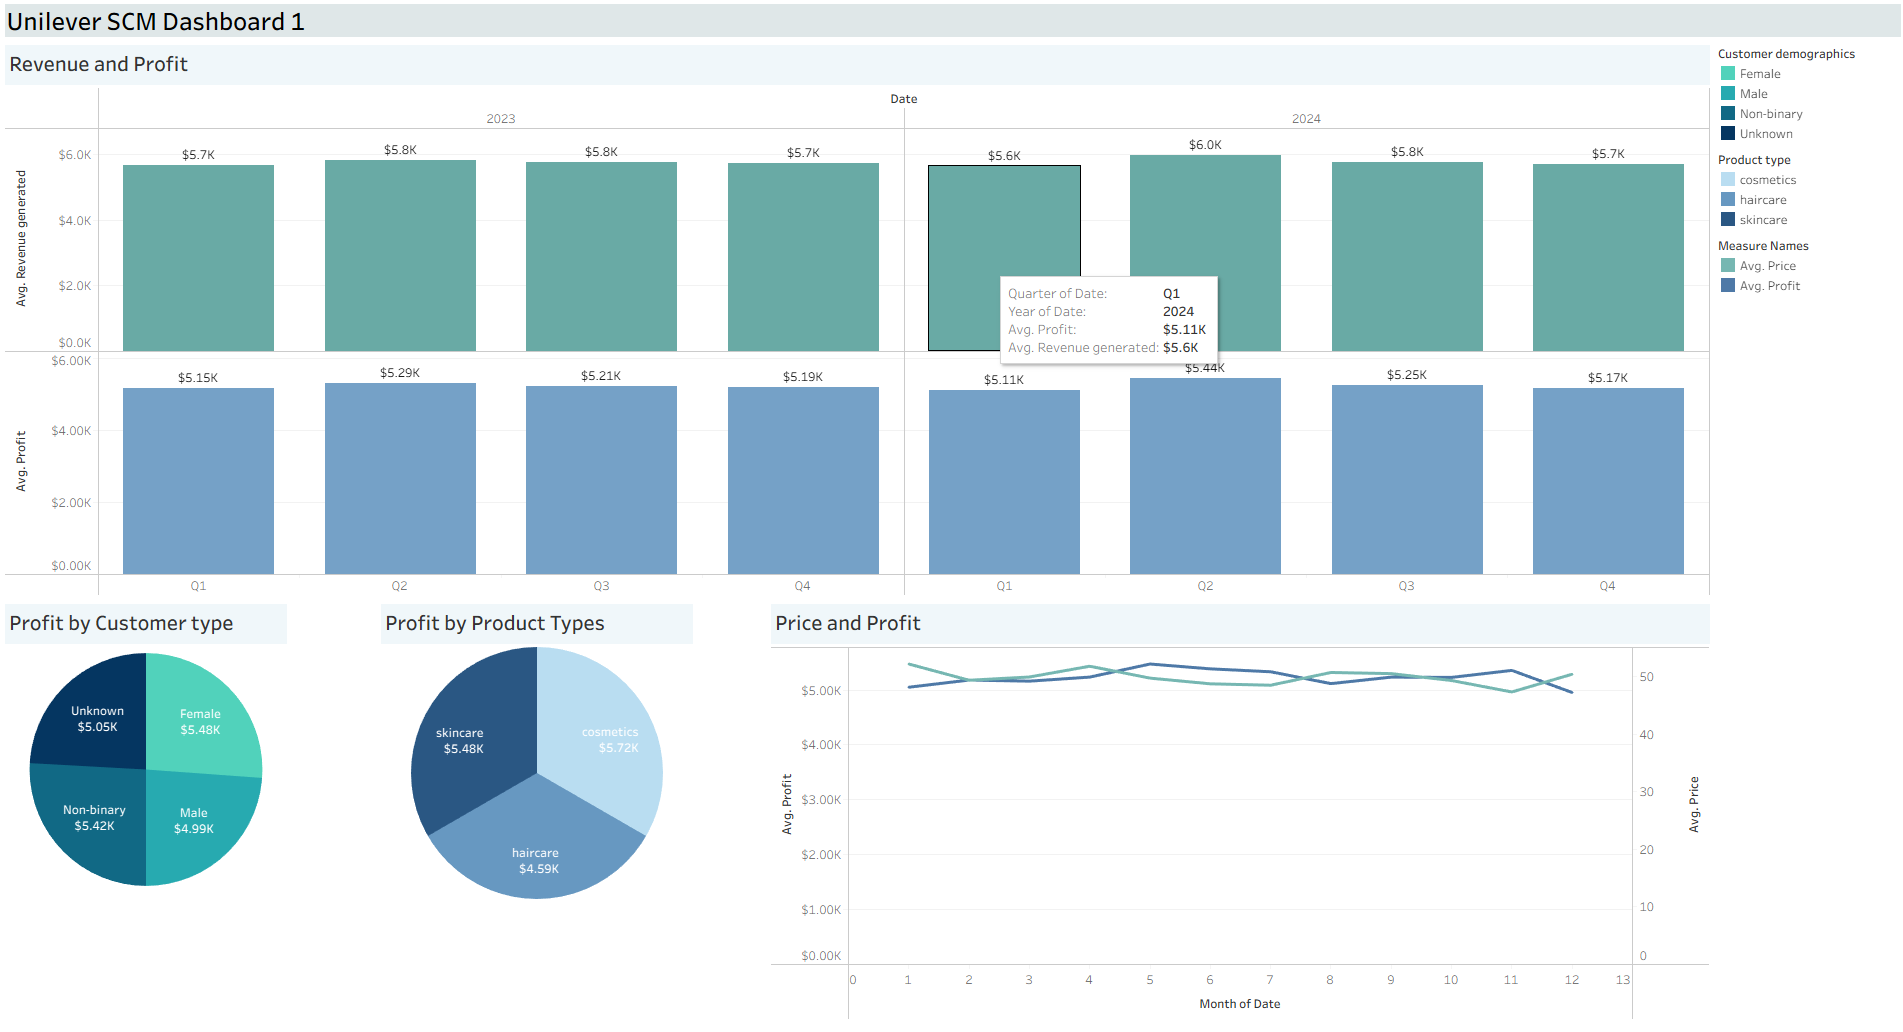

The dashboard page shown, as its layout file describes it:
{"tool":"tableau","page":{"name":"Unilever SCM Dashboard 1","canvas":[1000,1000],"units":"permille","ordinal":0},"visuals":[{"type":"title","box":[4.2,8.9,991.6,45.8]},{"type":"worksheet","title":"Revenue and Profit","mark":"Bar","rows":["Revenue generated","Calculation_0313685051486210"],"cols":["Date","Date"],"box":[4.2,54.7,890.7,527.6]},{"type":"legend","title":"Customer and Profit","param":"[federated.0toibn90woc6wi15i6tn81vprhmb].[none:Customer demographics:nk]","box":[894.9,54.7,100.8,118.3]},{"type":"legend","title":"Product type and Profit","param":"[federated.0toibn90woc6wi15i6tn81vprhmb].[none:Product type:nk]","box":[894.9,173,100.8,96]},{"type":"legend","title":"Price and Profit","param":"[federated.0toibn90woc6wi15i6tn81vprhmb].[:Measure Names]","box":[894.9,269,100.8,73.7]},{"type":"worksheet","title":"Customer and Profit","mark":"Pie","box":[4.2,582.3,195.5,408.8]},{"type":"worksheet","title":"Product type and Profit","mark":"Pie","box":[199.8,582.3,202.8,408.8]},{"type":"worksheet","title":"Price and Profit","mark":"Automatic","rows":["Calculation_0313685051486210","Price"],"cols":["Date"],"box":[402.5,582.3,492.4,408.8]}]}

Visuals, with their boxes on the dashboard's canvas, which has no fixed pixel size, in thousandths of its width and height (x1, y1, x2, y2). These are canvas units, not pixel positions in the 1903x1032 screenshot, which may show the page scaled, cropped or inside an application window:
title: pyautogui.locateOnScreen(4, 9, 996, 55)
"Revenue and Profit" worksheet (Bar marks): pyautogui.locateOnScreen(4, 55, 895, 582)
"Customer and Profit" legend: pyautogui.locateOnScreen(895, 55, 996, 173)
"Product type and Profit" legend: pyautogui.locateOnScreen(895, 173, 996, 269)
"Price and Profit" legend: pyautogui.locateOnScreen(895, 269, 996, 343)
"Customer and Profit" worksheet (Pie marks): pyautogui.locateOnScreen(4, 582, 200, 991)
"Product type and Profit" worksheet (Pie marks): pyautogui.locateOnScreen(200, 582, 403, 991)
"Price and Profit" worksheet: pyautogui.locateOnScreen(402, 582, 895, 991)
